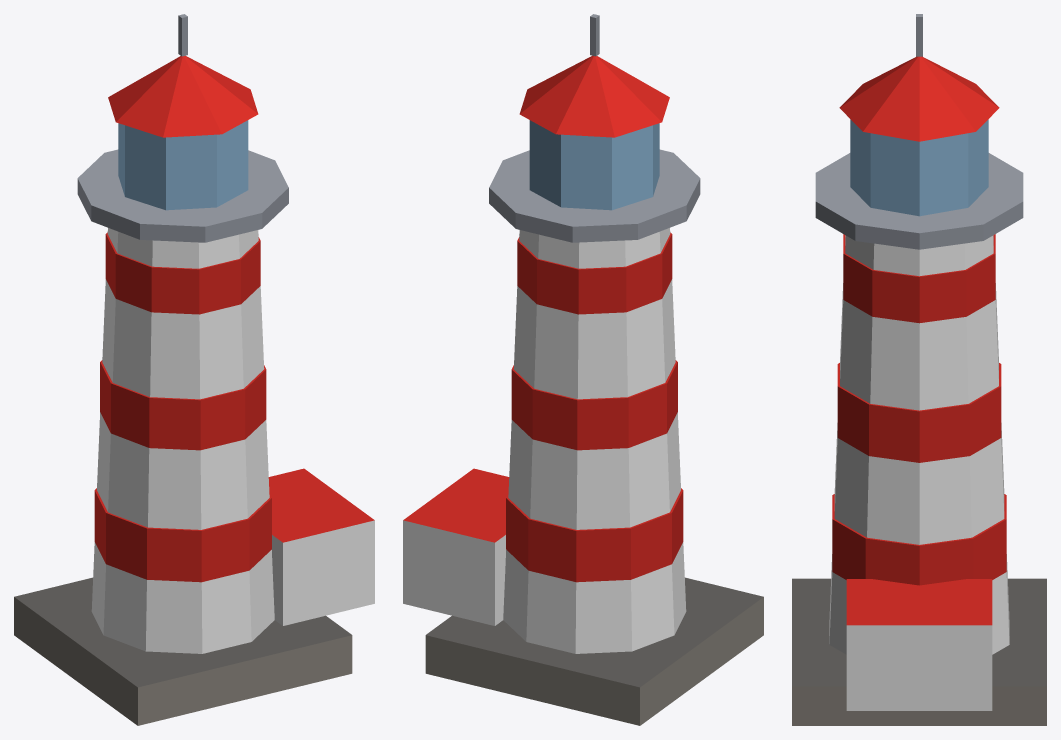
The model's file is faro.obj.
The picture shows the model from 3 angles, left to right: view 1: azimuth 30°, elevation 25°; view 2: azimuth 150°, elevation 25°; view 3: azimuth 270°, elevation 25°; orthographic projection. The views are drawn at different scales.
Visible parts, largest first — view 1: faro; view 2: faro; view 3: faro.
Part boxes in pixels (x1=…): faro: x1=14, y1=14, x2=374, y2=725; faro: x1=403, y1=14, x2=763, y2=725; faro: x1=792, y1=14, x2=1046, y2=725.
Size of the model in its own units: 8.6 by 19.9 by 7.
